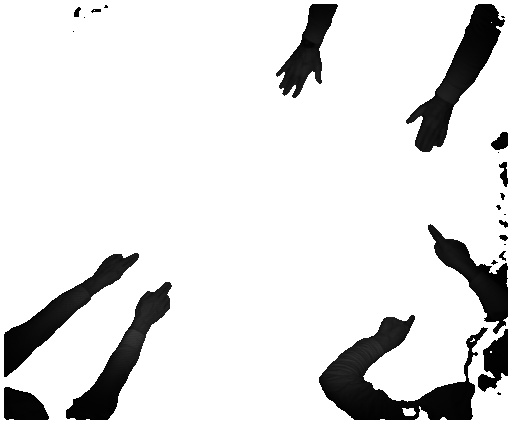hand: (272, 47, 326, 103), (400, 100, 453, 151), (424, 224, 473, 273), (93, 248, 143, 291), (135, 282, 175, 332), (378, 312, 415, 352)
